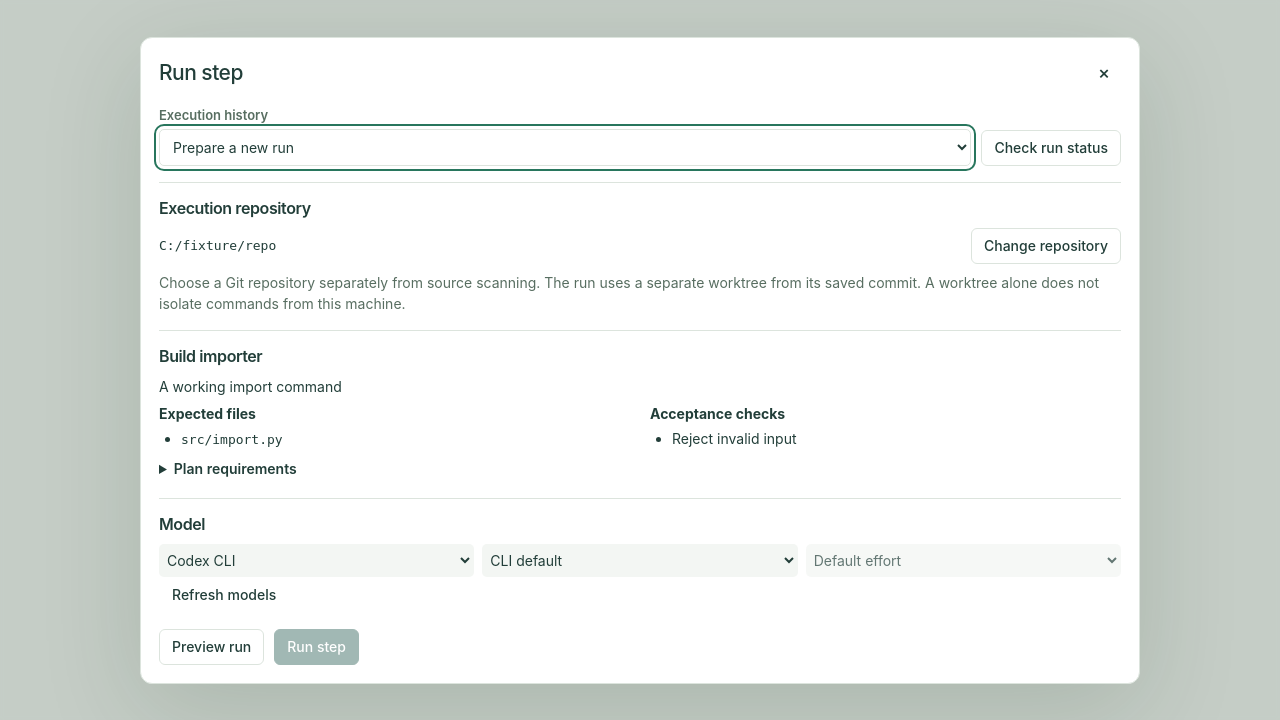
Test: execution review and explicit actions › keeps all authored brief fields available in the reviewed requirements disclosure
Expected: the element "Execution repository" is shown, x1=159 y1=182 x2=1121 y2=314
Click the button "Preview run": (212, 646) x1=159 y1=628 x2=264 y2=664
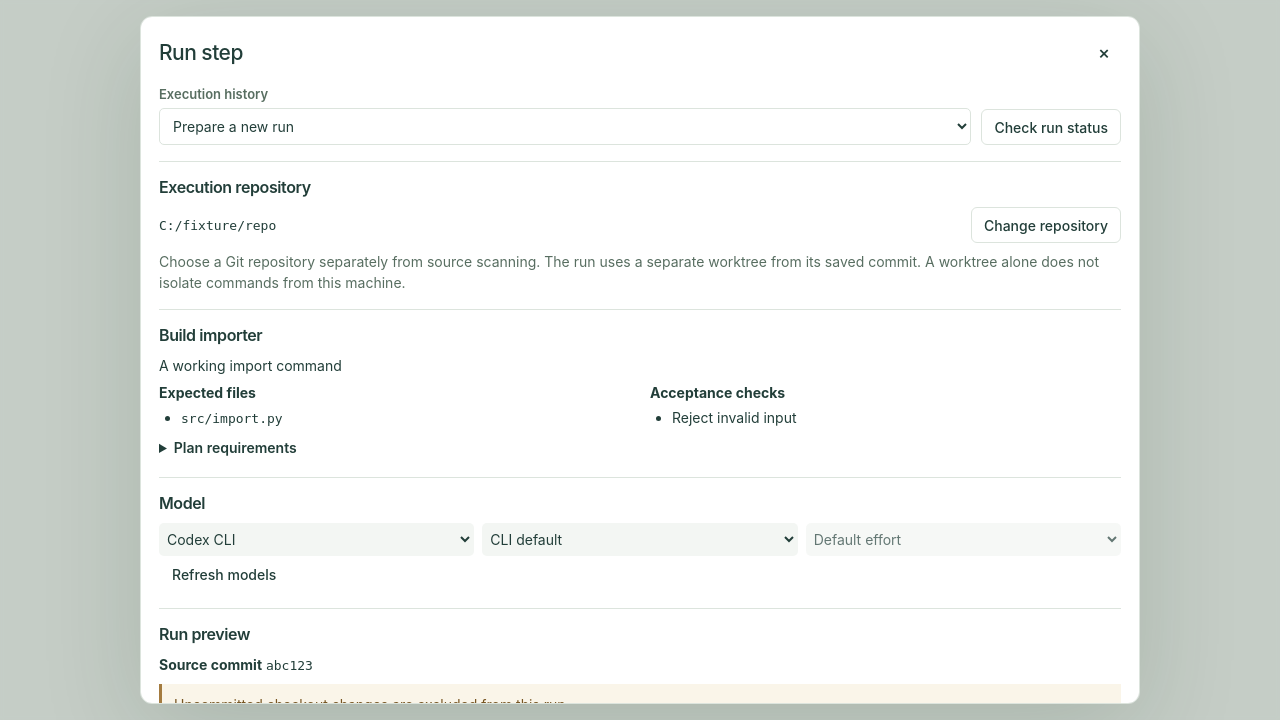
Now the element "Run preview" is shown, box x1=159 y1=608 x2=1121 y2=704
